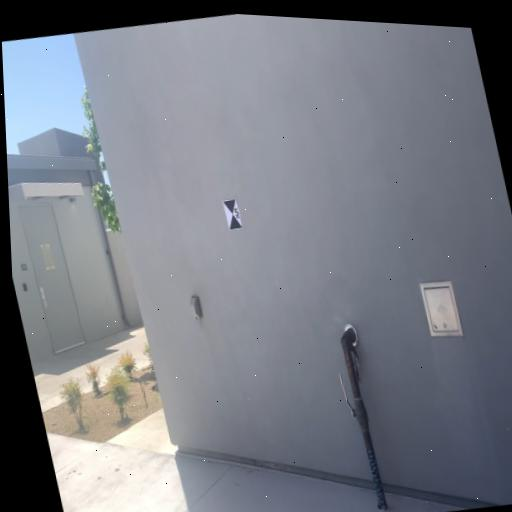target5: (222, 198, 243, 231)
